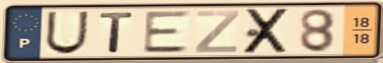8: (298, 7, 338, 54)
E: (141, 9, 194, 55)
T: (98, 11, 137, 55)
U: (42, 10, 91, 56)
X: (240, 6, 294, 56)
Z: (192, 9, 241, 54)
